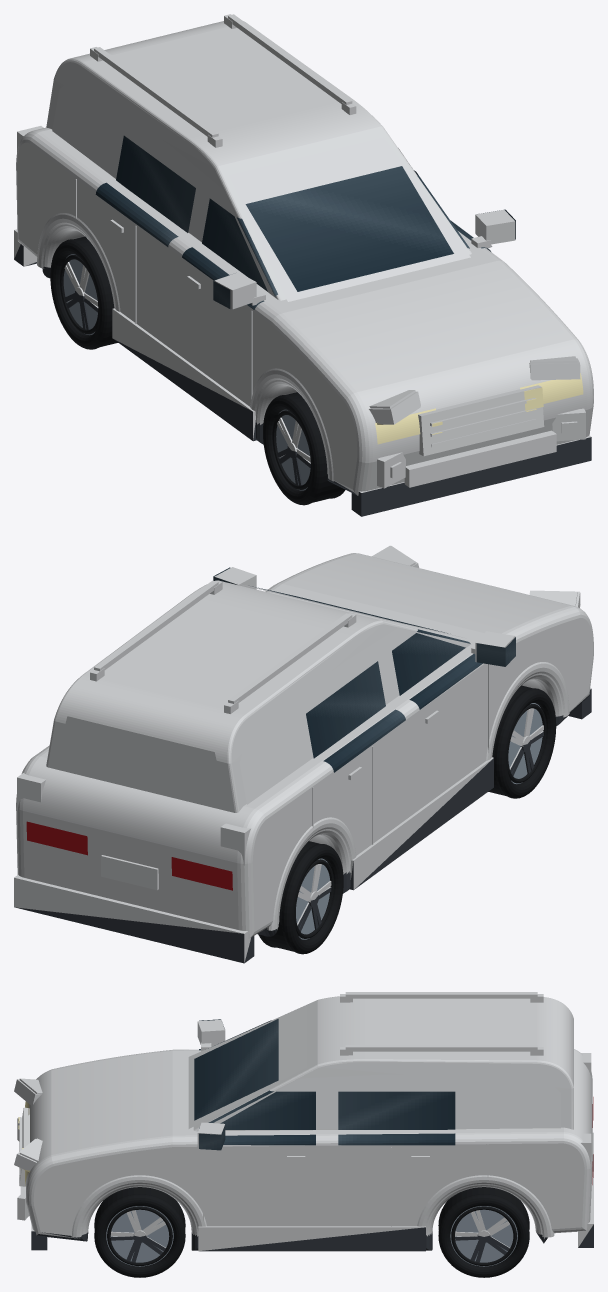
The model's file is suv.obj.
3 views of the same model, one above another, from view 1: azimuth 30°, elevation 25°; view 2: azimuth 150°, elevation 25°; view 3: azimuth 270°, elevation 25° (orthographic). The views are drawn at different scales.
Visible parts, largest first — view 1: suv; view 2: suv; view 3: suv.
Boxes of the visible parts, x1,y1,x2,y2 form: suv: (14, 14, 593, 516); suv: (14, 545, 593, 963); suv: (14, 992, 593, 1277).
Bounding box in the file's own units: 2.17 × 1.86 × 4.6.
Materials: 7 (1 with a texture image).
